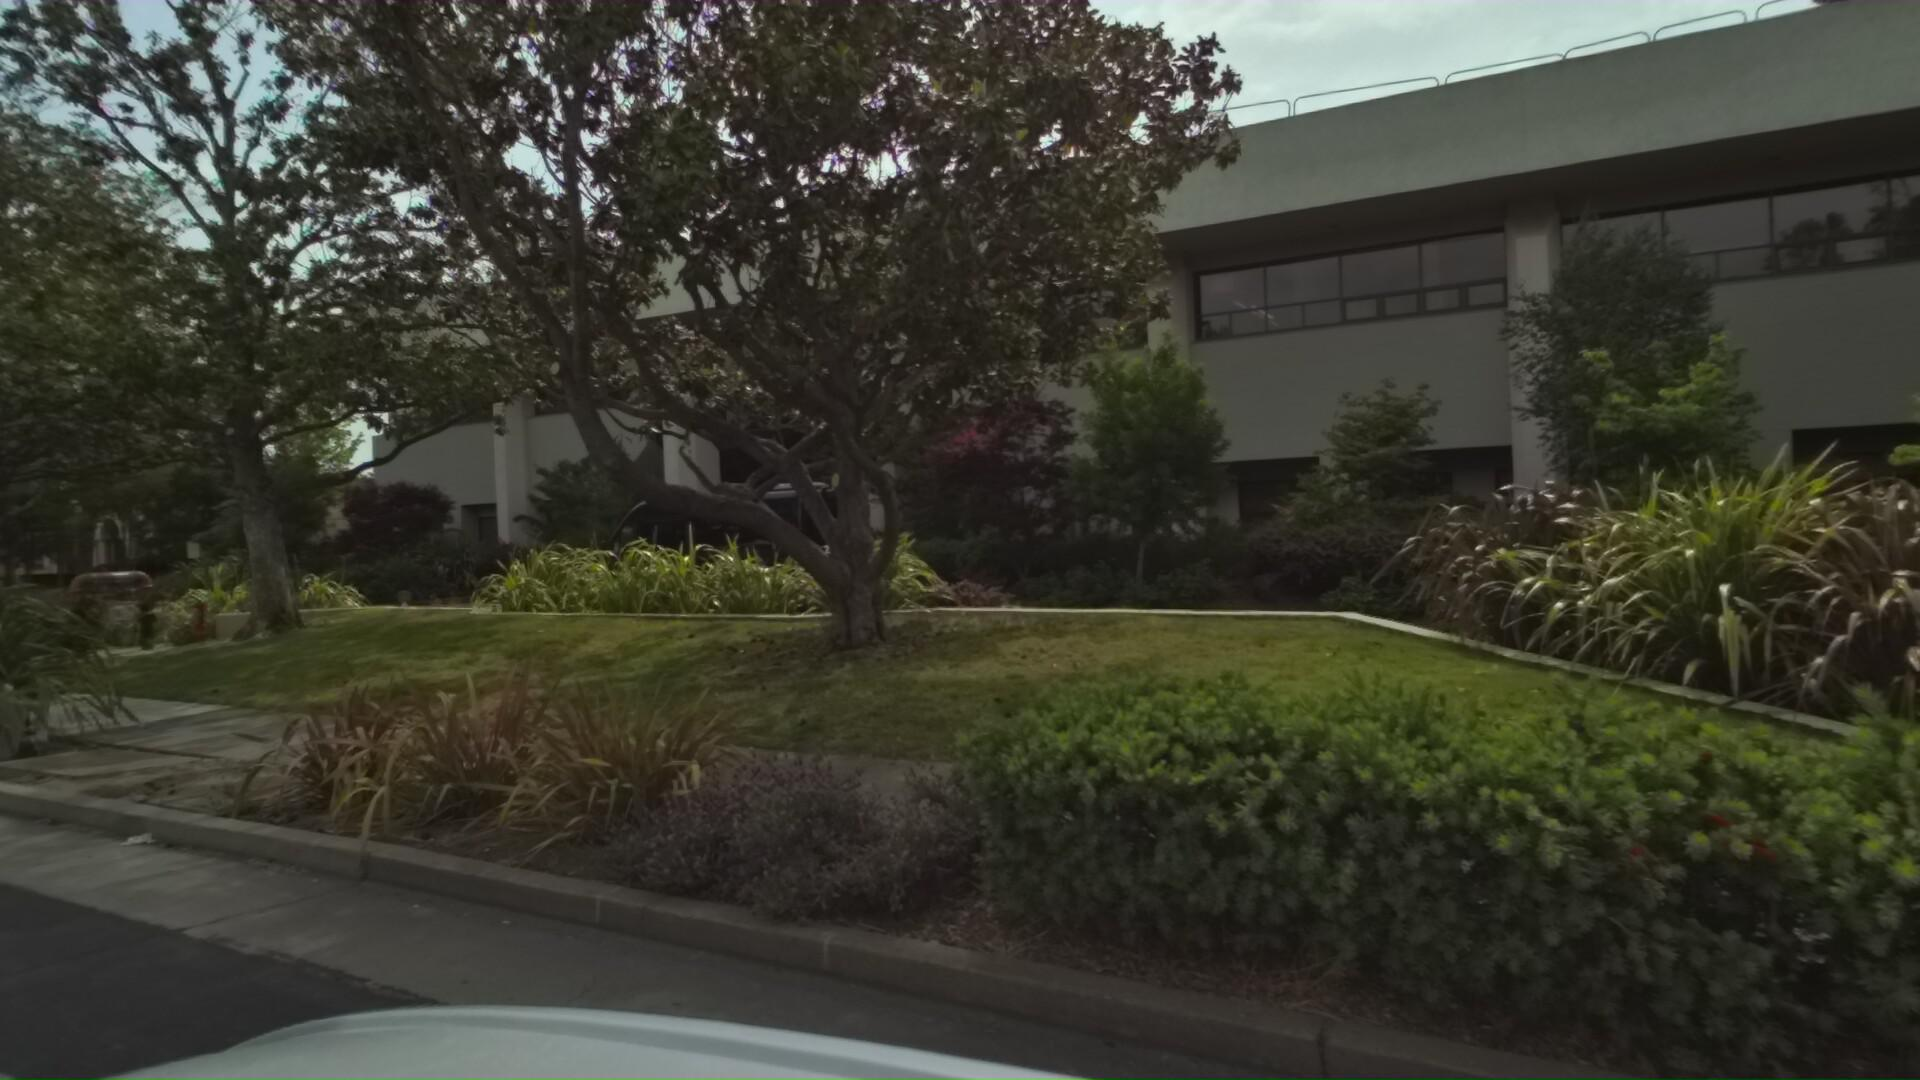car: (568, 471, 890, 617)
